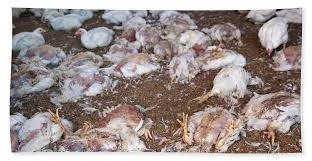AbNormal: (244, 93, 308, 143), (197, 60, 259, 109), (178, 104, 242, 148), (85, 98, 154, 137), (56, 70, 120, 102), (15, 60, 60, 97), (107, 52, 164, 79), (190, 46, 248, 71), (206, 18, 245, 50), (21, 43, 66, 69), (62, 48, 103, 76), (267, 43, 303, 73)
